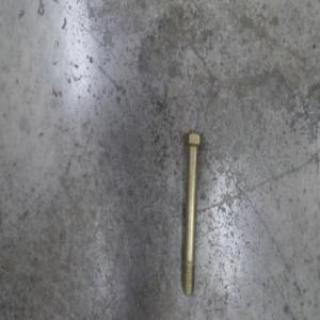Bolttrack_idkeyframe: (181, 128, 203, 298)
